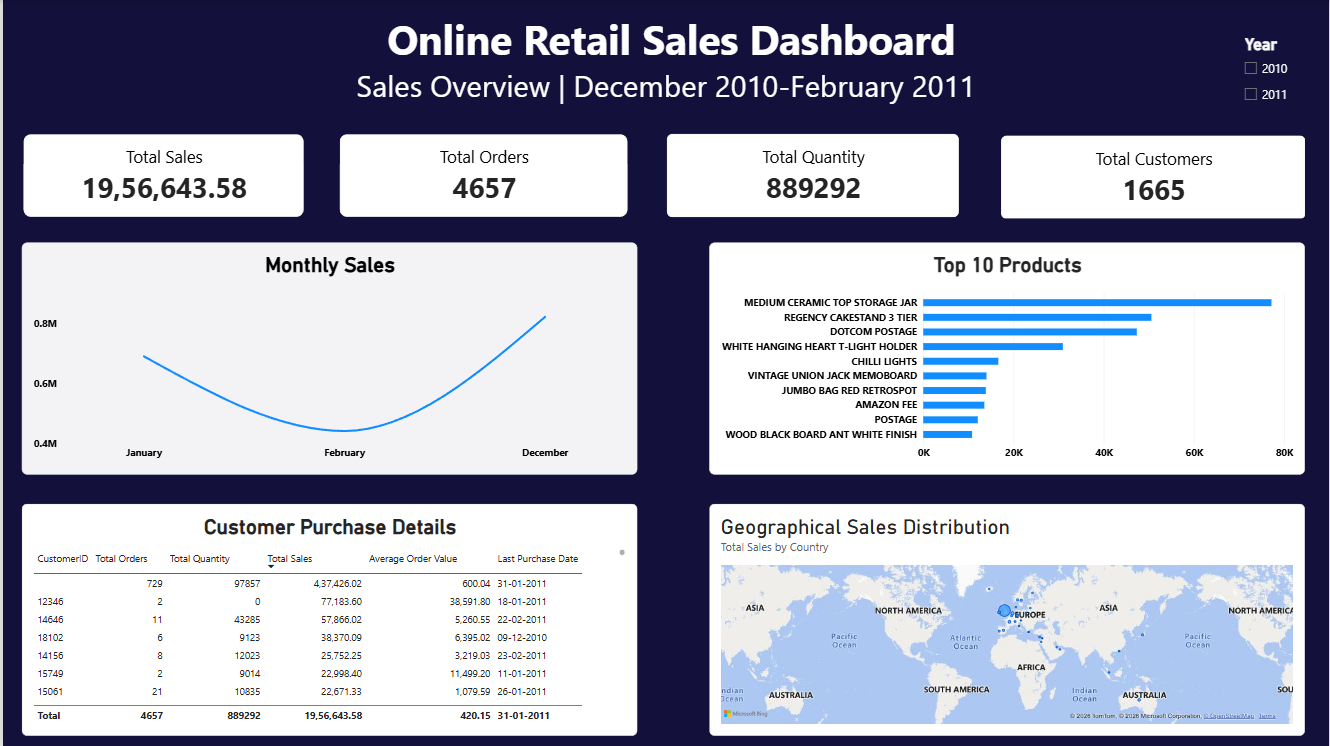

What the dashboard file says about the page in this screenshot:
{"tool":"powerbi","page":{"name":"Sales Overview","canvas":[1920,1080],"ordinal":0},"visuals":[{"type":"textbox","box":[0,16.1,1919.6,176.8],"z":0},{"type":"cardVisual","fields":{"Data":["retail_analytics online_retail.Total Sales"]},"box":[29,193.6,407.2,121.2],"z":1000},{"type":"cardVisual","fields":{"Data":["retail_analytics online_retail.Total Orders"]},"box":[486.8,193.6,418,121.2],"z":2000},{"type":"cardVisual","fields":{"Data":["retail_analytics online_retail.Total Quantity Sold"]},"box":[960.9,193.6,423.5,121.2],"z":3000},{"type":"cardVisual","fields":{"Data":["retail_analytics online_retail.Total Customers"]},"box":[1444.1,195.4,441.6,121.2],"z":4000},{"type":"lineChart","title":"Monthly Sales ","fields":{"Category":["retail_analytics online_retail.InvoiceDate.Variation.Date Hierarchy.Month"],"Y":["retail_analytics online_retail.Total Sales"]},"box":[26.8,351.8,891.1,335.7],"z":5000},{"type":"clusteredBarChart","title":"Top 10 Products ","fields":{"Category":["retail_analytics online_retail.Description"],"Y":["retail_analytics online_retail.Total Sales"]},"box":[1023.2,351.8,862.5,335.7],"z":6000},{"type":"tableEx","title":"Customer Purchase Details","fields":{"Values":["retail_analytics online_retail.CustomerID","retail_analytics online_retail.Total Orders","retail_analytics online_retail.Total Quantity","retail_analytics online_retail.Total Sales","retail_analytics online_retail.Average Order Value","retail_analytics online_retail.Last Purchase Date"]},"box":[26.8,728.6,891.1,335.7],"z":7000},{"type":"map","title":"Geographical Sales Distribution","fields":{"Category":["retail_analytics online_retail.Country"],"Size":["retail_analytics online_retail.Total Sales"]},"box":[1023.2,728.6,862.5,335.7],"z":8000},{"type":"slicer","fields":{"Values":["retail_analytics online_retail.InvoiceDate.Variation.Date Hierarchy.Year"]},"box":[1789.3,50,130.4,108.9],"z":9000}]}

Visuals, with their boxes in screenshot pixels (x1, y1, x2, y2), scaled from the page's 1920x1080 canvas onto the 1330x746 screenshot:
textbox: pyautogui.locateOnScreen(0, 11, 1329, 133)
cardVisual - retail_analytics online_retail.Total Sales: pyautogui.locateOnScreen(20, 134, 302, 217)
cardVisual - retail_analytics online_retail.Total Orders: pyautogui.locateOnScreen(337, 134, 627, 217)
cardVisual - retail_analytics online_retail.Total Quantity Sold: pyautogui.locateOnScreen(666, 134, 959, 217)
cardVisual - retail_analytics online_retail.Total Customers: pyautogui.locateOnScreen(1000, 135, 1306, 219)
"Monthly Sales " lineChart: pyautogui.locateOnScreen(19, 243, 636, 475)
"Top 10 Products " clusteredBarChart: pyautogui.locateOnScreen(709, 243, 1306, 475)
"Customer Purchase Details" tableEx: pyautogui.locateOnScreen(19, 503, 636, 735)
"Geographical Sales Distribution" map: pyautogui.locateOnScreen(709, 503, 1306, 735)
slicer - retail_analytics online_retail.InvoiceDate.Variation.Date Hierarchy.Year: pyautogui.locateOnScreen(1239, 35, 1329, 110)
